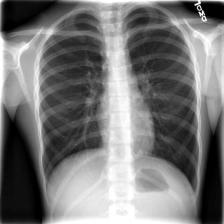normal: (37, 2, 200, 196)
